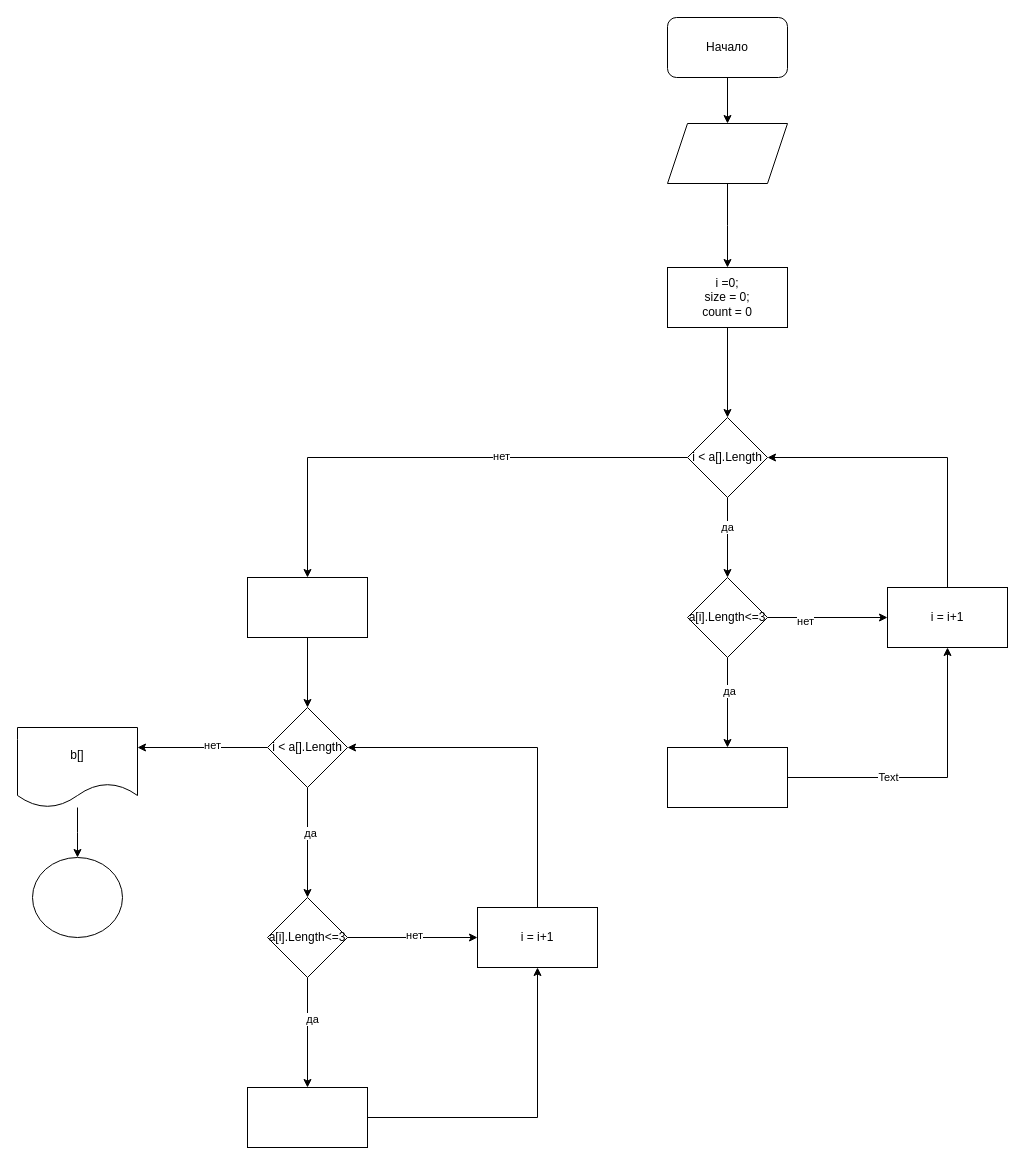
This 1025x1165 diagram has some shape labels left out. Here are the shapes that lost their labels. From the top down, the centre of each, then its label:
At (x=727, y=153): "a[]".
At (x=307, y=607): "b[] = new Str[size] j=0".
At (x=727, y=777): "size = size+1".
At (x=307, y=1117): "b[j] = a[i] j = j+1".
